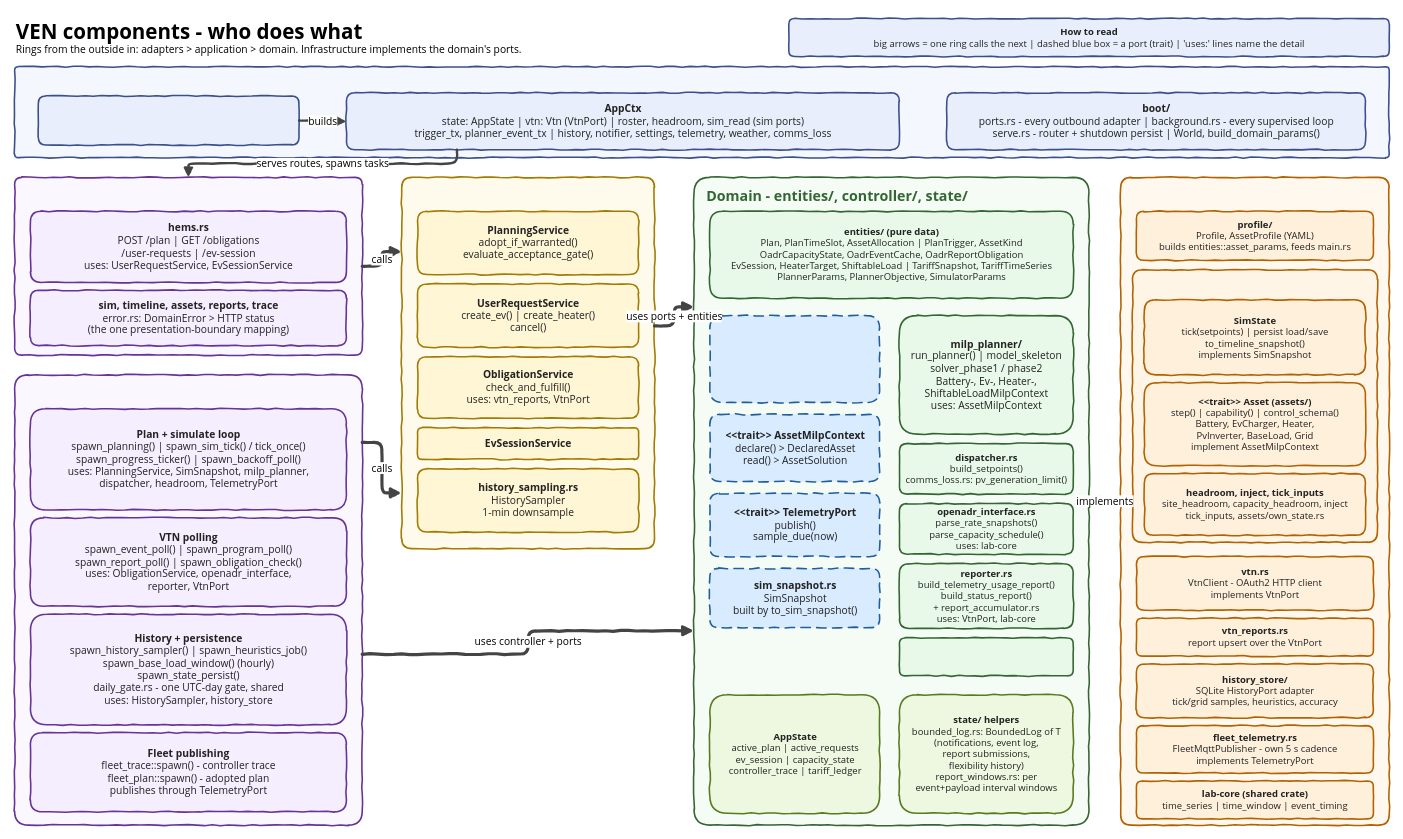
The diagram is 1403 pixels wide and 839 high, and some of its shapes have lost their labels. The shapes that lost their labels are listed below. From the top down, each one's box as (x1, y1, x2, y2) in pixels, then its label:
(37, 95, 299, 145): main.rs configure > assemble > spawn > serve
(13, 66, 1390, 158): Entry / Context
(13, 176, 363, 356): routes/ (HTTP)
(401, 176, 655, 549): services/ (application)
(709, 314, 880, 403): <<trait>> VtnPort fetch_events() fetch_reports() upsert_report() update_report()
(1131, 269, 1378, 543): simulator/
(1119, 176, 1390, 826): Infrastructure
(13, 374, 363, 826): tasks/ (all loops supervised)
(898, 637, 1074, 676): timeline.rs build_asset_timeline()
